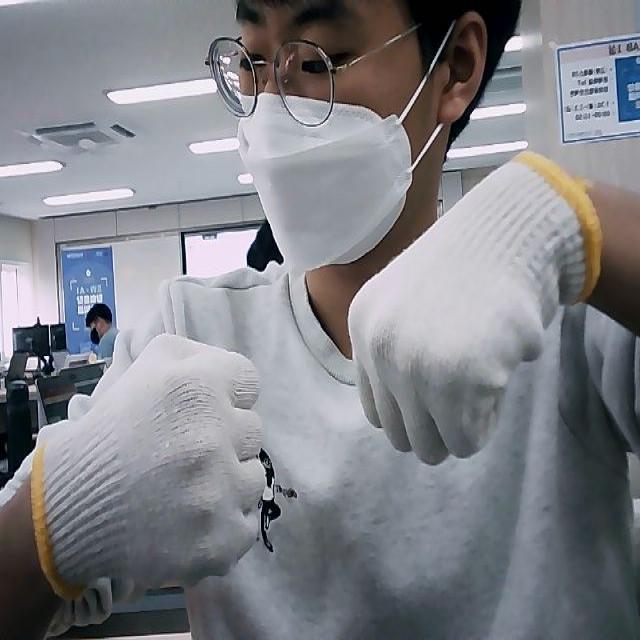gloves: (348, 150, 600, 463), (31, 333, 266, 596)
goggles: (202, 21, 402, 128)
